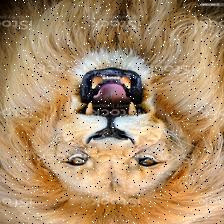Lion: (4, 0, 224, 224)
